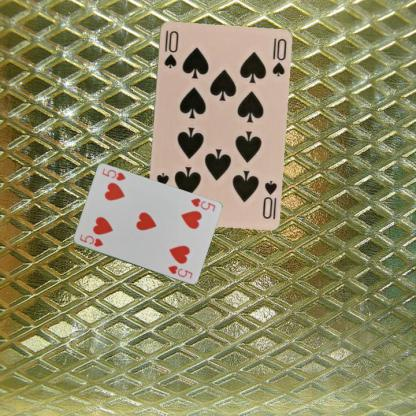10s: (259, 178, 278, 221), (161, 28, 180, 69)
5h: (188, 196, 216, 212), (77, 232, 104, 248)
